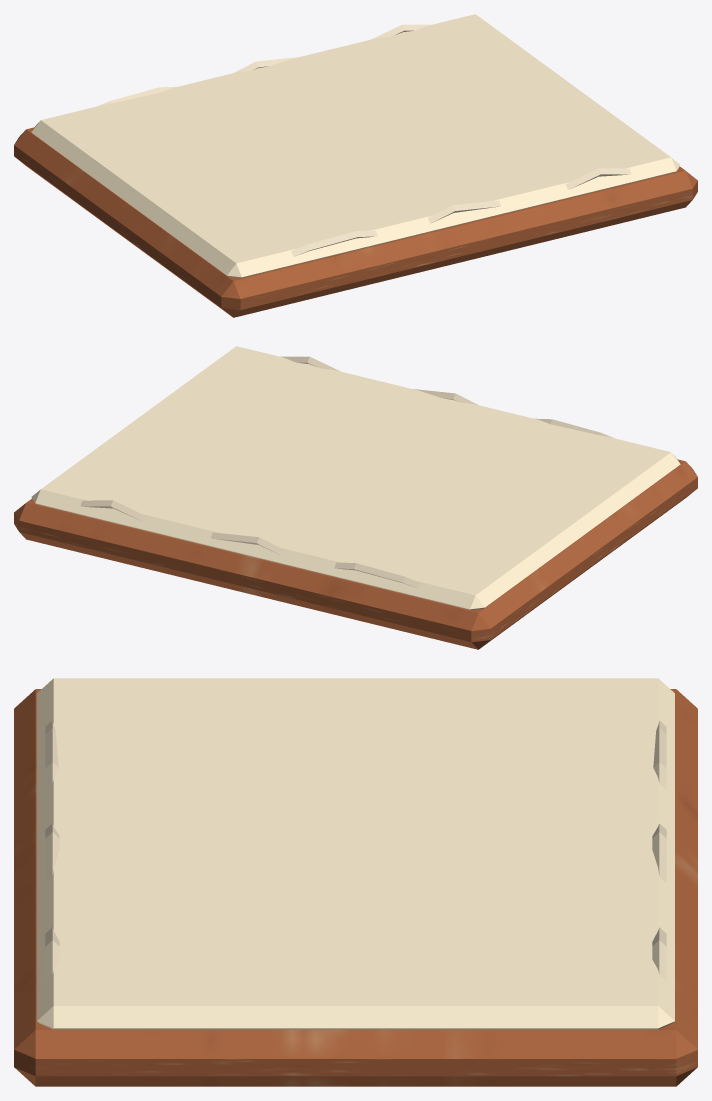
The model's file is gingerbread_house_piece_base.glb.
The picture shows the model from 3 angles, top to bottom: view 1: azimuth 30°, elevation 25°; view 2: azimuth 150°, elevation 25°; view 3: azimuth 270°, elevation 25°; orthographic projection. The views are drawn at different scales.
Visible parts, largest first — view 1: base; view 2: base; view 3: base.
Part boxes in pixels (x1,y1,x2,y2): base: (14,14,697,317); base: (14,346,697,649); base: (14,678,697,1086).
Size of the model in its own units: 0.353 by 0.039 by 0.284.
Materials: 3 (1 with a texture image).
